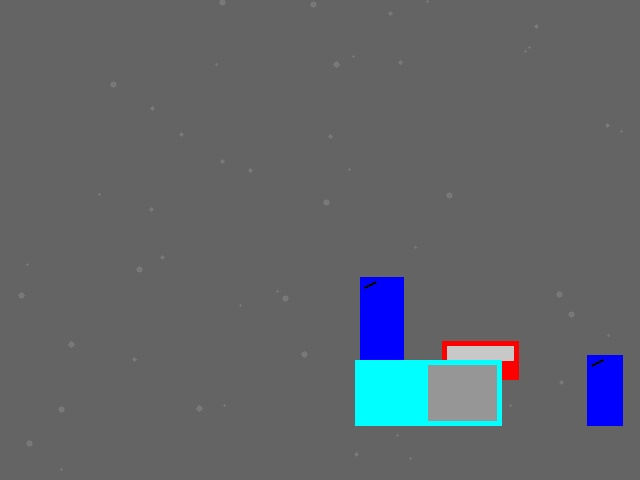car: (442, 341, 518, 379)
motorcycle: (360, 277, 403, 363), (587, 355, 622, 425)
truck: (355, 360, 501, 425)
